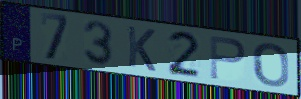2: (166, 30, 204, 80)
3: (82, 19, 115, 68)
7: (39, 11, 70, 64)
K: (125, 24, 158, 74)
O: (251, 42, 291, 89)
P: (208, 34, 248, 82)
